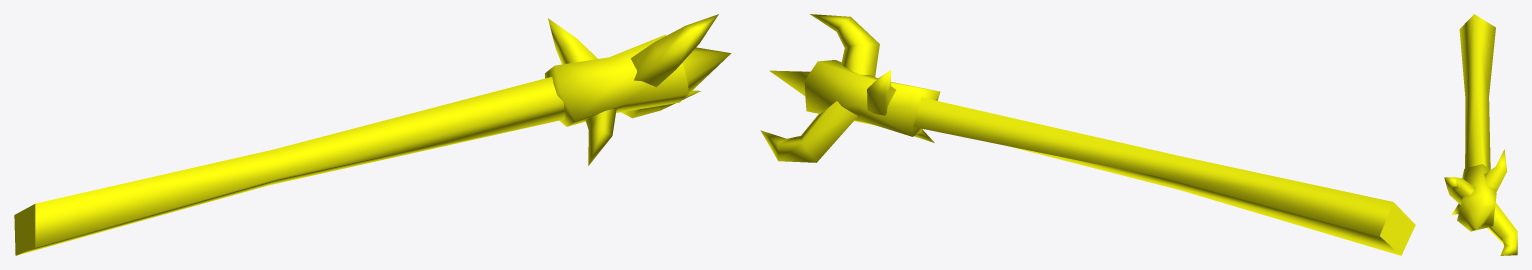
File: ORC_weapon_staff_B.FBX.glb
3 views of the same model, side by side, from view 1: azimuth 30°, elevation 25°; view 2: azimuth 150°, elevation 25°; view 3: azimuth 270°, elevation 25° (orthographic). The views are drawn at different scales.
Parts seen in each view (by area): view 1: ORC_weapon_staff_B; view 2: ORC_weapon_staff_B; view 3: ORC_weapon_staff_B.
Boxes of the visible parts, <box> form: ORC_weapon_staff_B: <box>14,14,731,255</box>; ORC_weapon_staff_B: <box>760,14,1415,255</box>; ORC_weapon_staff_B: <box>1444,14,1517,255</box>.
Size of the model in its own units: 59164 by 9822 by 8898.
